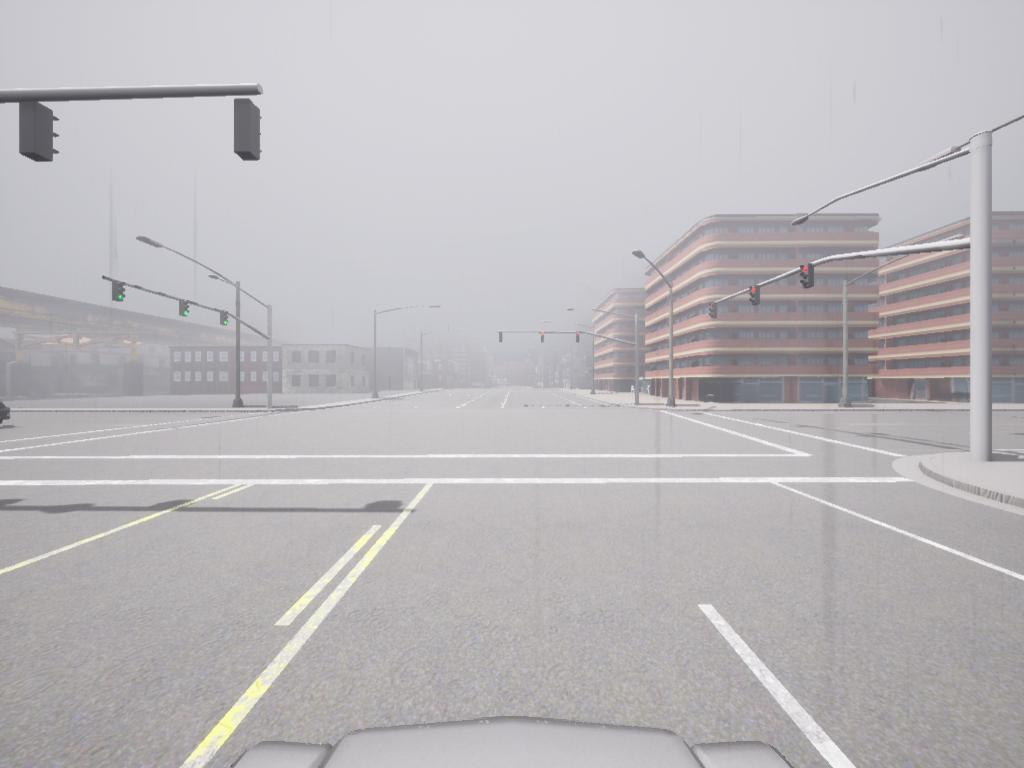traffic_light: (17, 106, 60, 164), (235, 97, 265, 162), (798, 264, 813, 289), (112, 281, 127, 303), (802, 267, 816, 290), (749, 286, 762, 307), (184, 305, 195, 321), (710, 301, 718, 321), (221, 315, 232, 329), (540, 332, 546, 344), (577, 332, 582, 346), (500, 332, 504, 344)
